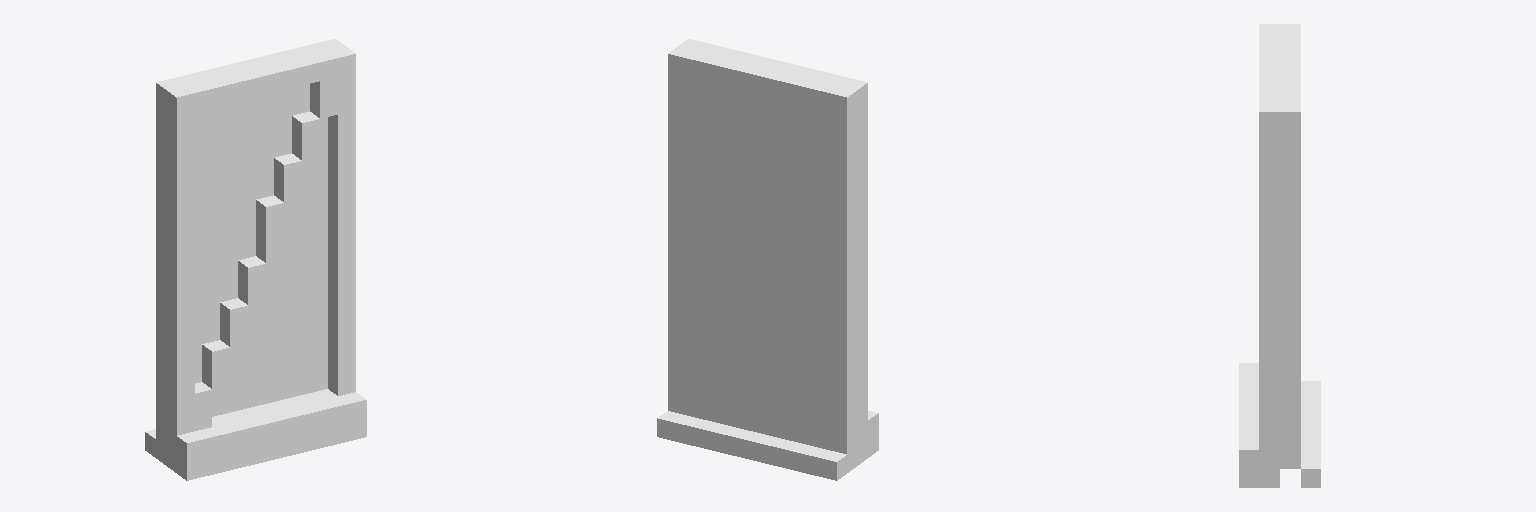
The model's file is house-8-wall_sub_flat.obj.
The picture shows the model from 3 angles: view 1: azimuth 30°, elevation 25°; view 2: azimuth 150°, elevation 25°; view 3: azimuth 270°, elevation 25°; orthographic projection.
Parts seen in each view (by area): view 1: wall_sub_flat; view 2: wall_sub_flat; view 3: wall_sub_flat.
Part boxes in pixels (left/top/right/bottom): wall_sub_flat: left=145, top=39, right=366, bottom=480; wall_sub_flat: left=657, top=39, right=878, bottom=480; wall_sub_flat: left=1239, top=24, right=1320, bottom=487.
Size of the model in its own units: 1 by 2 by 0.4.